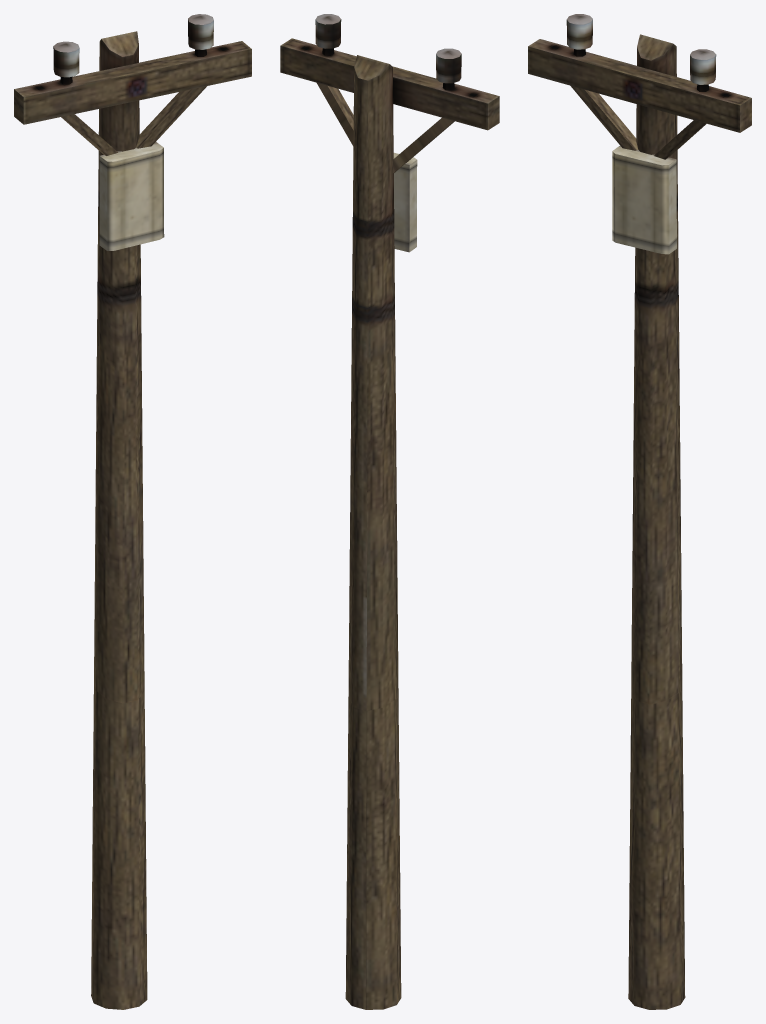
File: Pole.fbx
The picture shows the model from 3 angles, left to right: view 1: azimuth 30°, elevation 25°; view 2: azimuth 150°, elevation 25°; view 3: azimuth 330°, elevation 25°; orthographic projection. The views are drawn at different scales.
Parts seen in each view (by area): view 1: Pole; view 2: Pole; view 3: Pole.
Boxes of the visible parts, x1,y1,x2,y2 form: Pole: (14,14,251,1009); Pole: (280,14,499,1009); Pole: (528,14,751,1009).
Size of the model in its own units: 138 by 582 by 41.41.
1 material, 1 textured.
